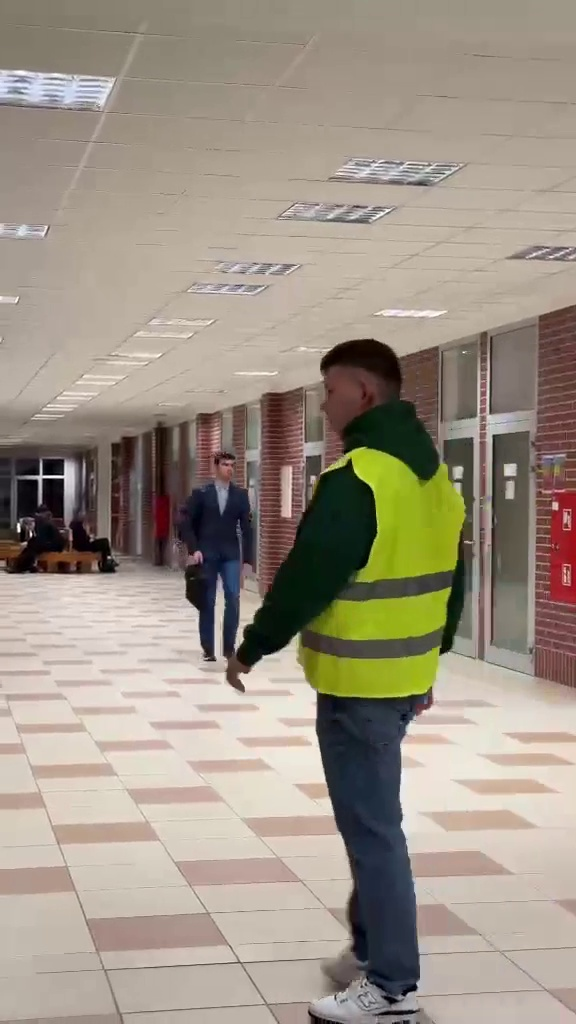no vest: (171, 444, 254, 662)
vest: (256, 338, 478, 1024)
